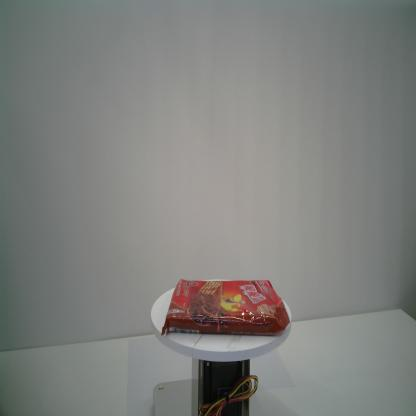Dessert: (161, 278, 291, 338)
